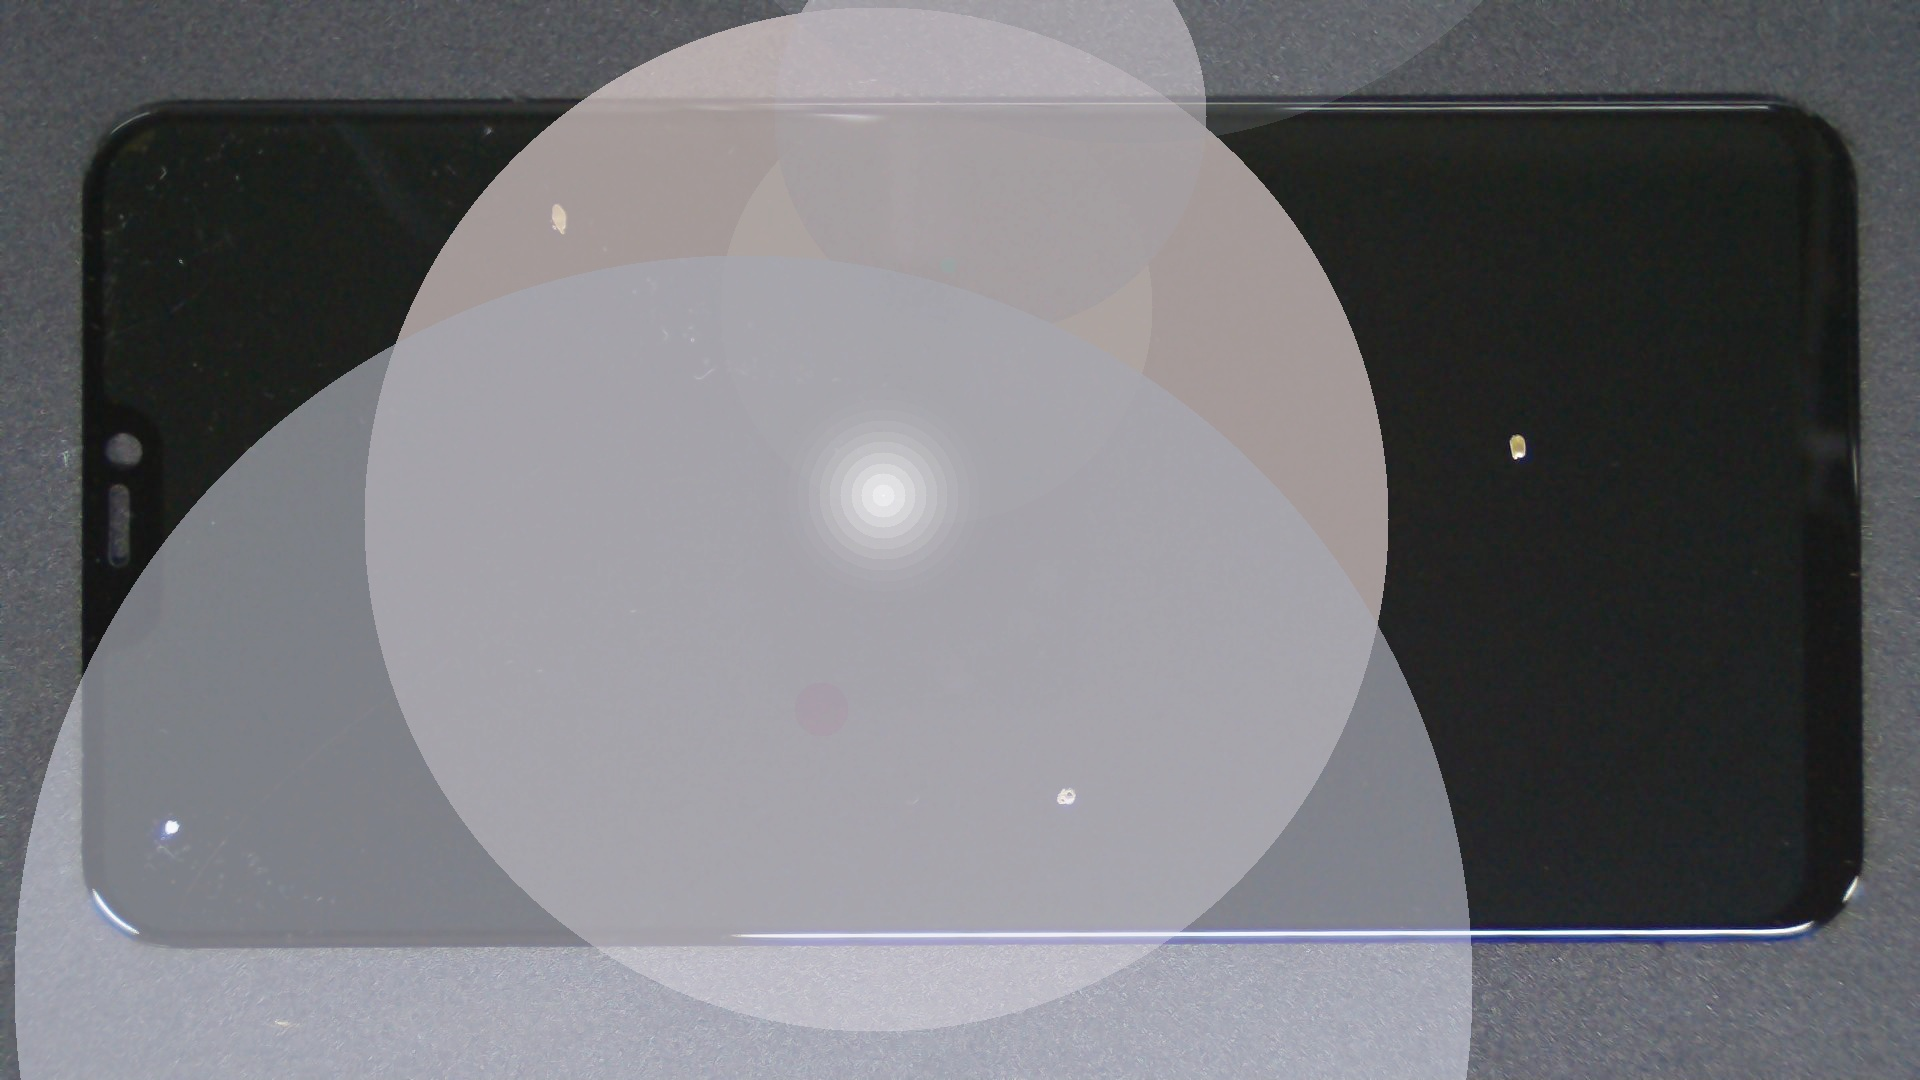oil: (535, 393, 1606, 1080), (760, 215, 1920, 649), (280, 100, 835, 302), (83, 409, 248, 1080)
